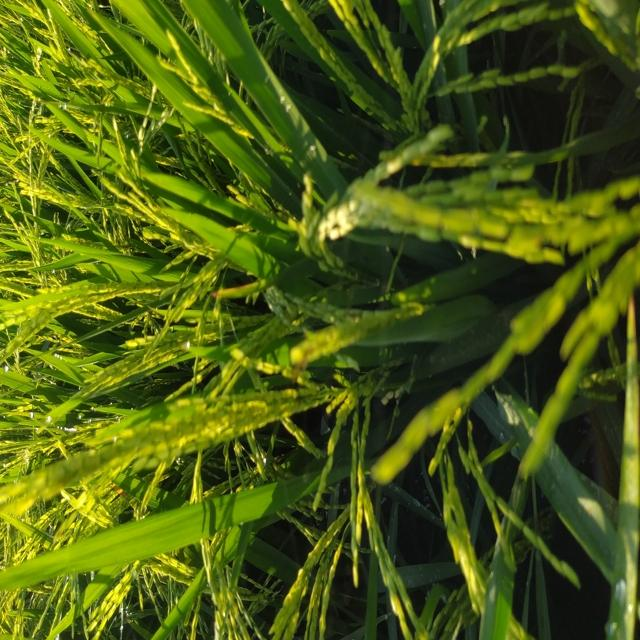Brown spot: (205, 276, 267, 307), (102, 476, 156, 510), (621, 284, 640, 372)
